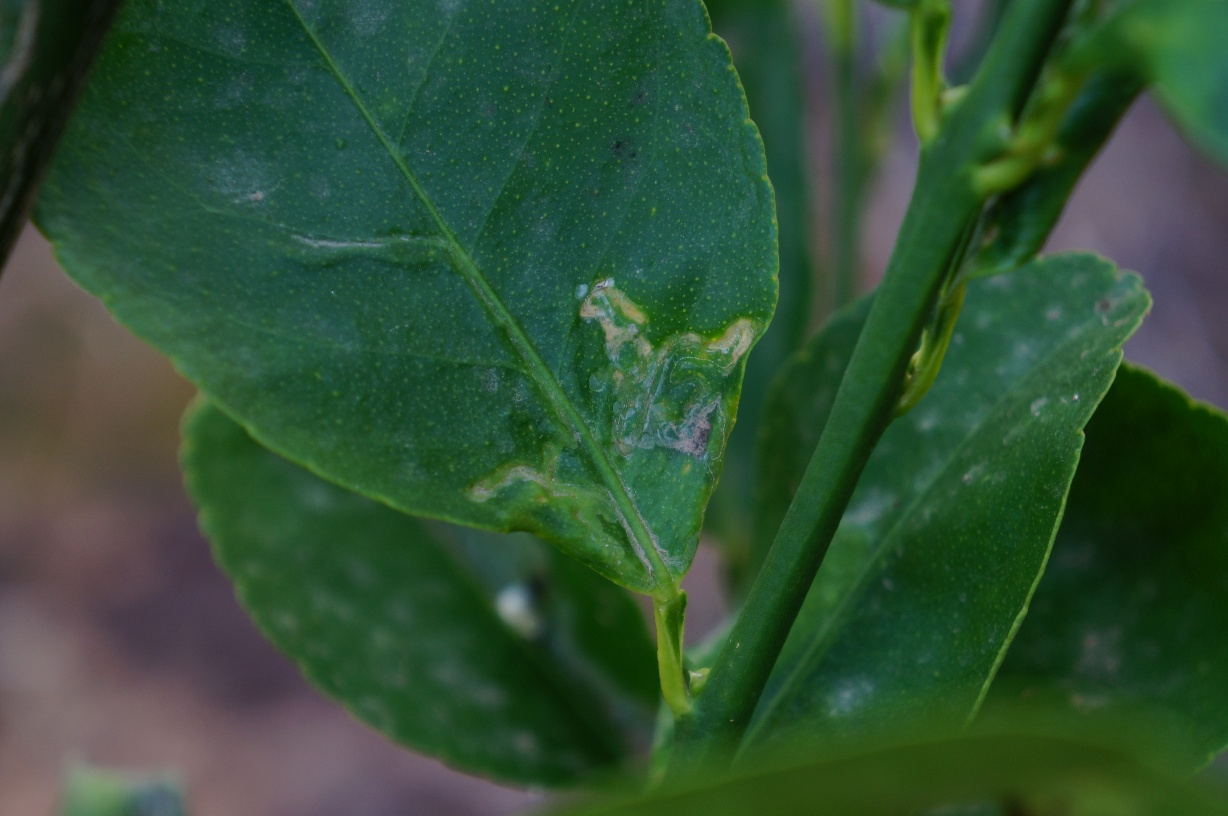damage: (471, 273, 781, 596)
